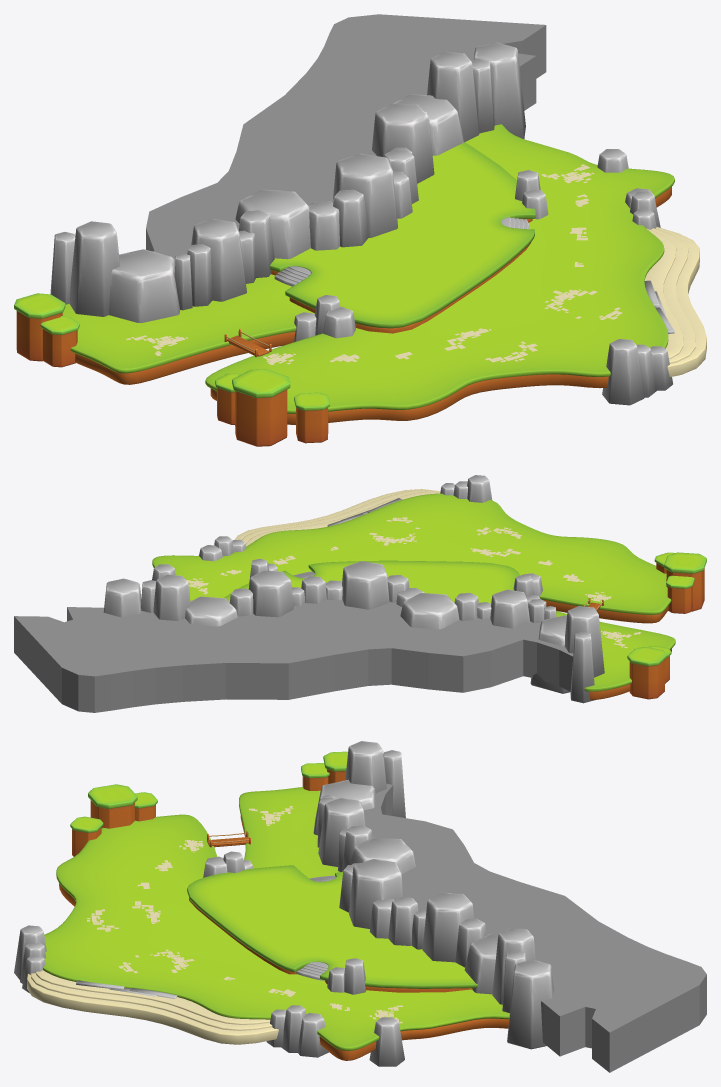
File: Pulau Kalimantan.fbx
3 renders of one model, top to bottom at view 1: azimuth 30°, elevation 25°; view 2: azimuth 150°, elevation 25°; view 3: azimuth 270°, elevation 25°, orthographic. The views are drawn at different scales.
Parts seen in each view (by area): view 1: Plane.644, Cube.107, Cube.110, Cube.664, Cube.114, Cylinder.257, Cylinder.244, Cylinder.261, Cylinder.263, Cylinder.258, Cylinder.247, Cylinder.256 (+24 smaller); view 2: Cube.107, Plane.644, Cube.110, Cylinder.261, Cube.114, Cylinder.263, Cylinder.258, Plane.605, Cylinder.244, Cylinder.254, Cylinder.243, Cylinder.247 (+15 smaller); view 3: Plane.644, Cube.107, Cube.110, Cube.114, Cylinder.256, Cylinder.263, Cylinder.261, Plane.605, Cylinder.247, Cube.664, Cylinder.244, Cylinder.260 (+17 smaller).
Part boxes in pixels (x1,y1,x2,y2): Plane.644: (62,124,674,413); Cube.107: (146,14,546,263); Cube.110: (270,142,535,328); Cube.664: (75,187,671,424); Cube.114: (644,226,706,377); Cylinder.257: (109,249,179,323); Cylinder.244: (69,221,119,316); Cylinder.261: (333,153,397,237); Cylinder.263: (372,103,434,183); Cylinder.258: (235,189,310,259); Cylinder.247: (191,218,246,301); Cylinder.256: (473,42,525,138); Cube.107: (14,599,573,712); Plane.644: (152,493,675,691); Cube.110: (224,560,519,603); Cylinder.261: (342,561,389,609); Cube.114: (235,489,440,546); Cylinder.263: (248,570,293,617); Cylinder.258: (400,593,459,629); Plane.605: (186,517,641,647); Cylinder.244: (564,606,604,677); Cylinder.254: (153,574,190,620); Cylinder.243: (570,631,594,703); Cylinder.247: (490,589,530,628); Plane.644: (43,787,509,1050); Cube.107: (363,783,706,1072); Cube.110: (187,865,477,988); Cube.114: (27,970,278,1044); Cylinder.256: (507,960,553,1049); Cylinder.263: (422,892,474,962); Cylinder.261: (349,859,403,928); Plane.605: (86,806,402,1023); Cylinder.247: (318,798,365,866); Cube.664: (59,815,509,1060); Cylinder.244: (345,741,386,793); Cylinder.260: (464,934,498,994).
Size of the model in its own units: 119 by 18.03 by 122.
